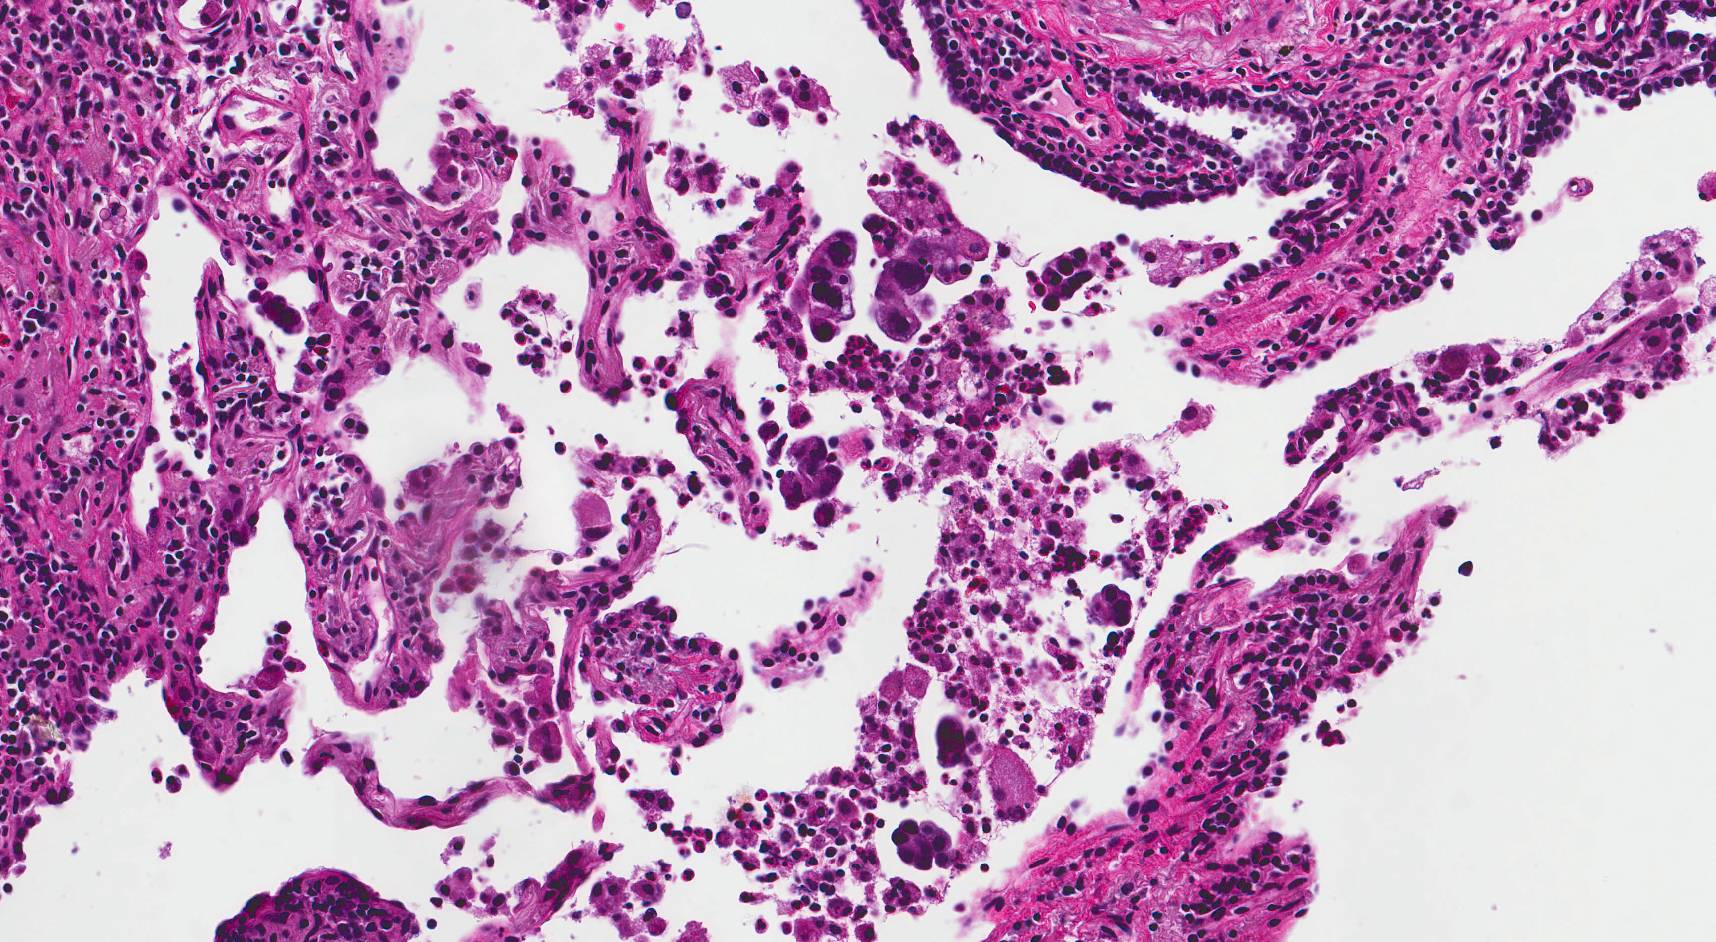stas: (789, 225, 861, 340), (867, 250, 935, 346), (772, 433, 844, 513), (891, 814, 954, 873)
